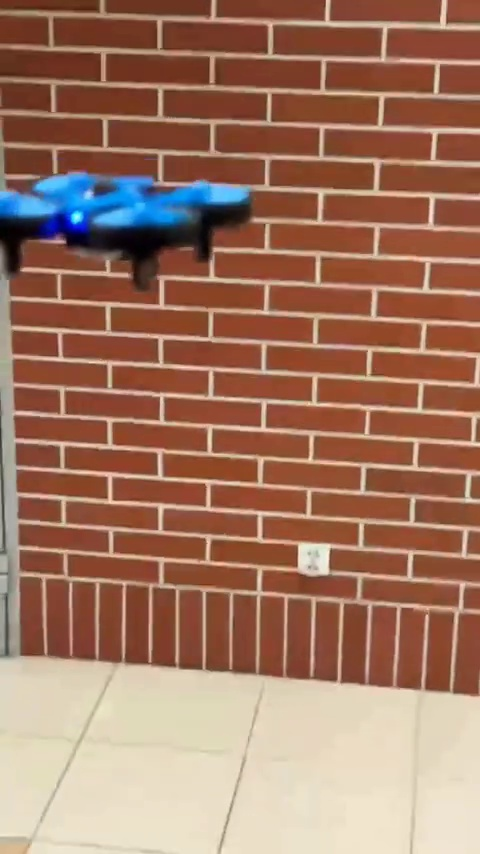drone: (0, 168, 253, 285)
